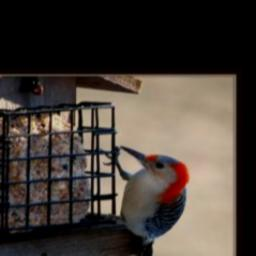Woodpecker: (100, 146, 189, 256)
